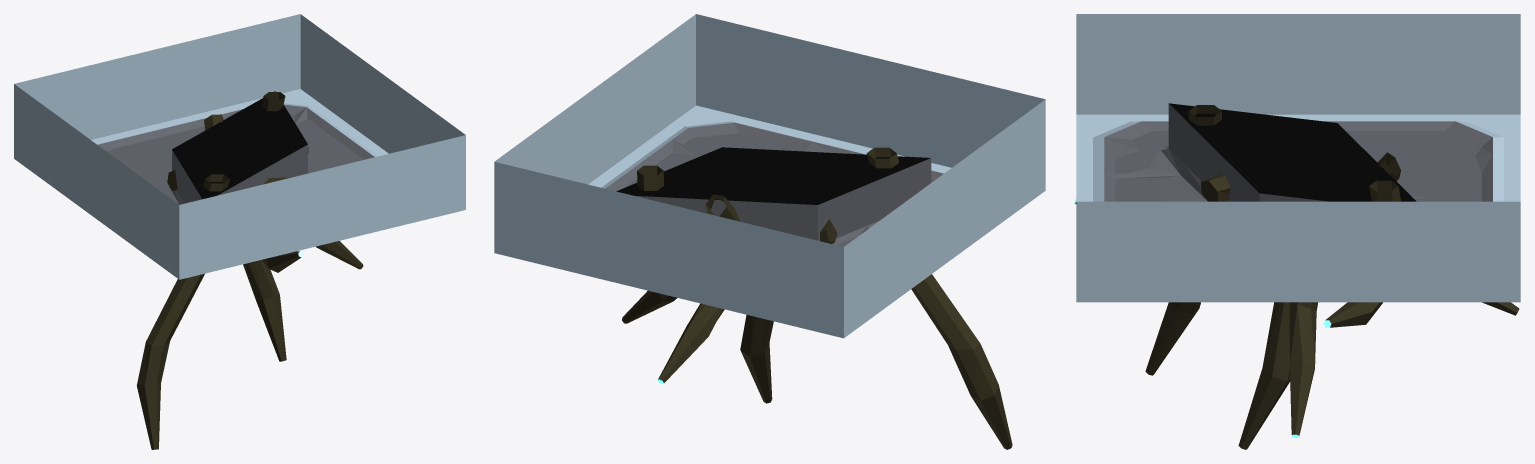
The model's file is Ceiling_Decor.fbx.
3 views of the same model, side by side, from view 1: azimuth 30°, elevation 25°; view 2: azimuth 150°, elevation 25°; view 3: azimuth 270°, elevation 25° (orthographic). The views are drawn at different scales.
Visible parts, largest first — view 1: Ceiling_Decor_1; view 2: Ceiling_Decor_1; view 3: Ceiling_Decor_1.
Part boxes in pixels (x1,y1,x2,y2): Ceiling_Decor_1: (14,14,465,449); Ceiling_Decor_1: (494,14,1045,449); Ceiling_Decor_1: (1074,14,1520,449).
Size of the model in its own units: 8.76 by 7.12 by 8.04.
